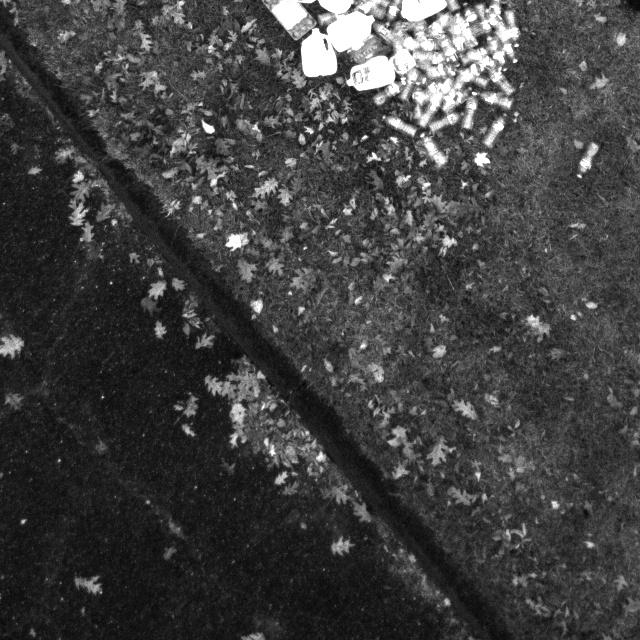bottle: (493, 21, 523, 67), (413, 86, 445, 129), (417, 130, 450, 168), (368, 76, 409, 106), (478, 110, 508, 148), (379, 111, 422, 137), (467, 87, 517, 109), (486, 64, 519, 97), (457, 52, 493, 82), (396, 63, 422, 104), (574, 141, 602, 179), (423, 108, 467, 132), (452, 65, 490, 90), (462, 37, 500, 61), (407, 45, 452, 65), (459, 91, 481, 131), (420, 62, 463, 80), (431, 28, 457, 57)
can: (297, 25, 339, 79), (342, 54, 397, 94)
container: (343, 31, 387, 68), (388, 46, 418, 76)
